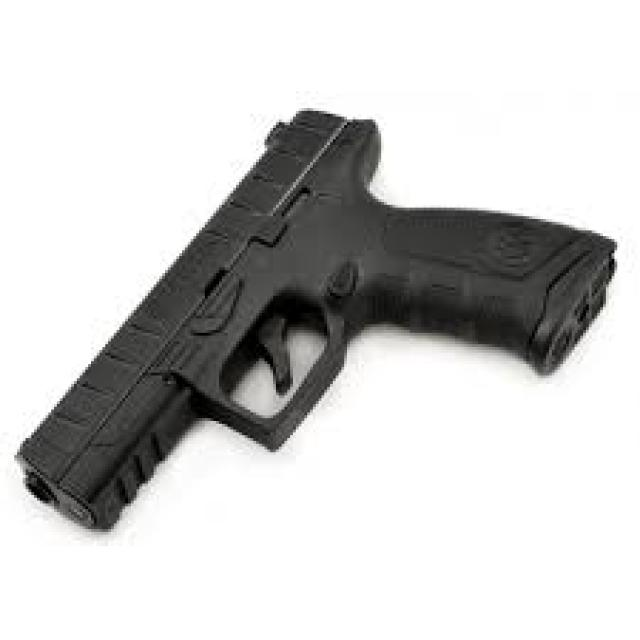pistol: (14, 104, 628, 543)
